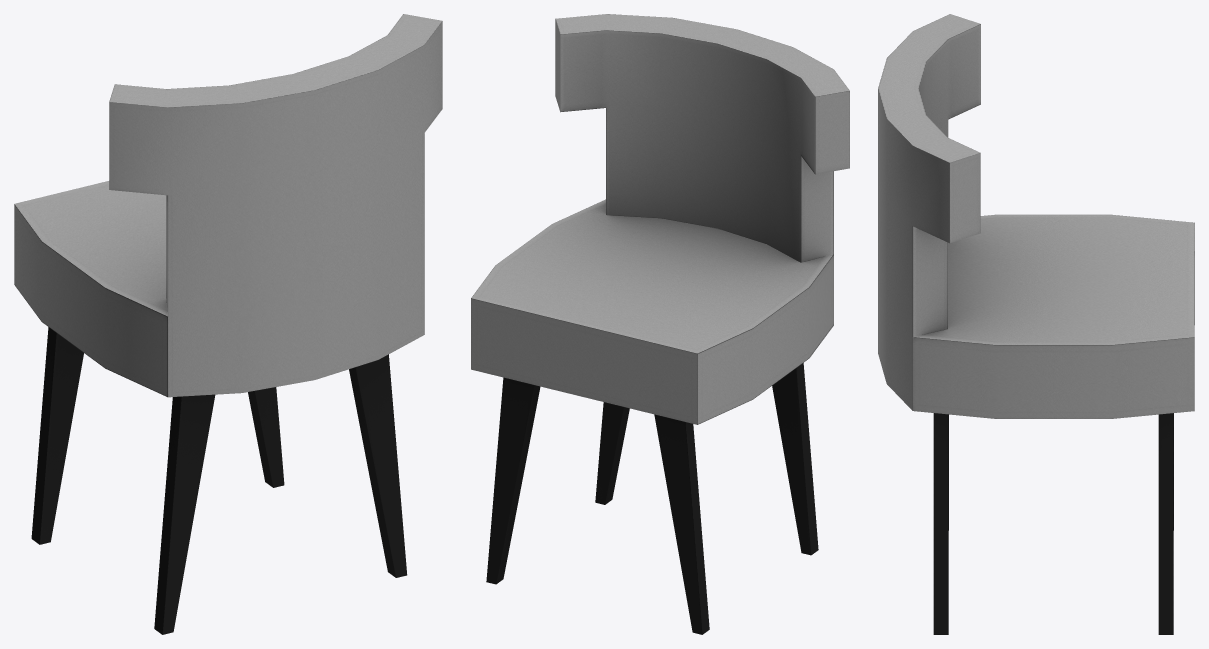
The model's file is Chair.fbx.
The picture shows the model from 3 angles, left to right: view 1: azimuth 30°, elevation 25°; view 2: azimuth 150°, elevation 25°; view 3: azimuth 270°, elevation 25°; orthographic projection. The views are drawn at different scales.
Parts seen in each view (by area): view 1: Chair; view 2: Chair; view 3: Chair.
Part boxes in pixels (x1=…): Chair: x1=14, y1=14, x2=442, y2=634; Chair: x1=471, y1=14, x2=849, y2=634; Chair: x1=878, y1=14, x2=1194, y2=634.
Bounding box in the file's own units: 5.25 × 8.09 × 4.72.
1 material, 1 textured.
